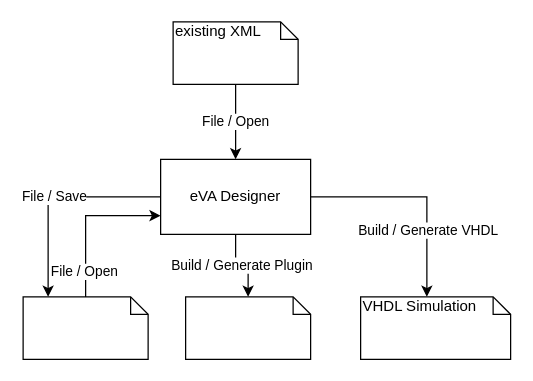
Image size: 533x381. Some labels were removed from this diagram. The box of each missing label's shape, as (x1, y1, x2, y2) in pixels:
adapted XML: (22, 296, 148, 359)
Installer EXE: (184, 296, 311, 359)
